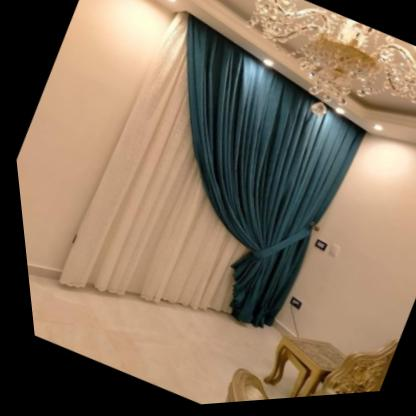Ceramic floor: (22, 275, 276, 407)
Curtains: (44, 12, 369, 330)
